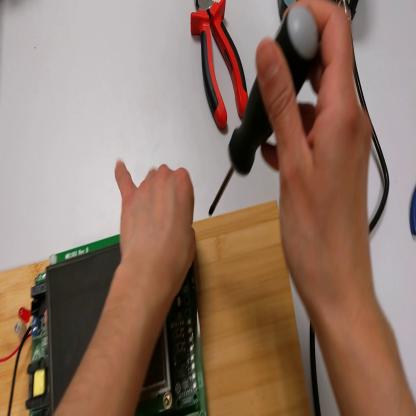hand: (251, 2, 378, 312), (114, 157, 197, 302)
low voltage board: (2, 234, 211, 416)
pliers: (190, 1, 250, 137), (410, 186, 416, 239)
screwdriver-: (207, 12, 325, 214)
welder station: (280, 2, 358, 24)
working area: (2, 199, 314, 416)
